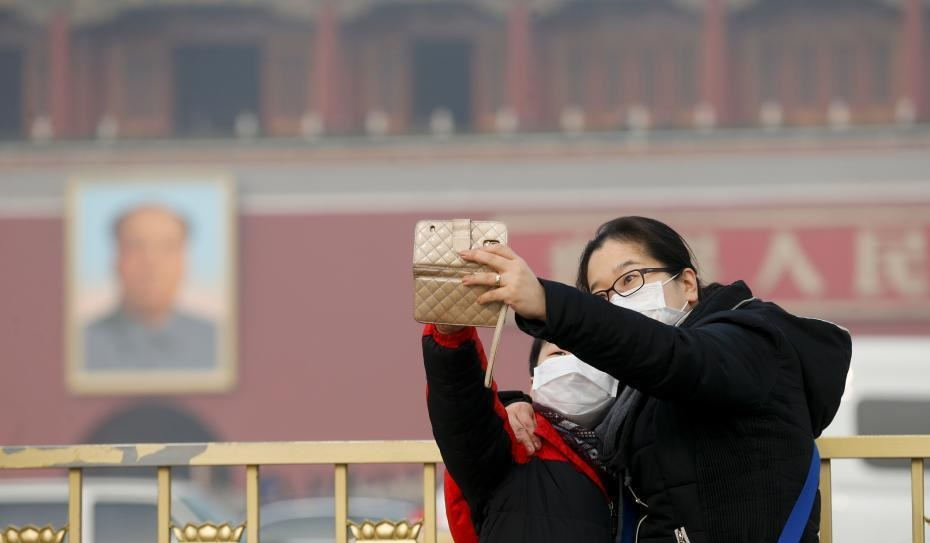face_mask: (587, 243, 682, 329), (532, 336, 619, 429)
